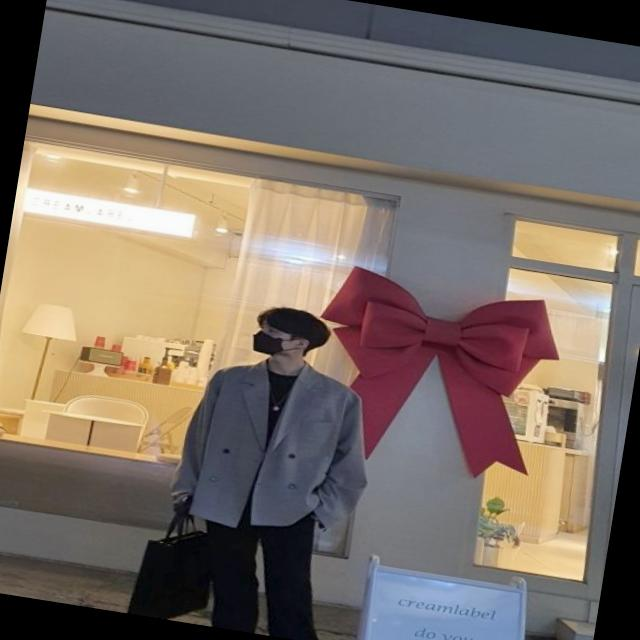blazer: (167, 344, 387, 546)
slacks: (180, 461, 353, 640)
